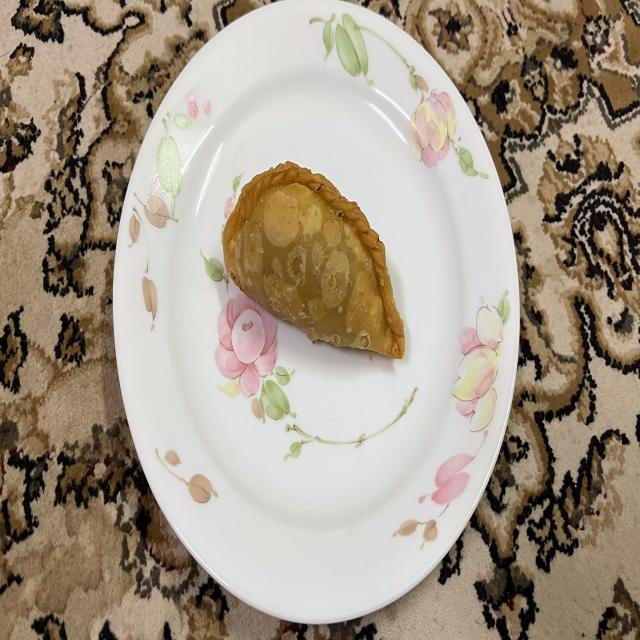karipap: (224, 162, 405, 358)
